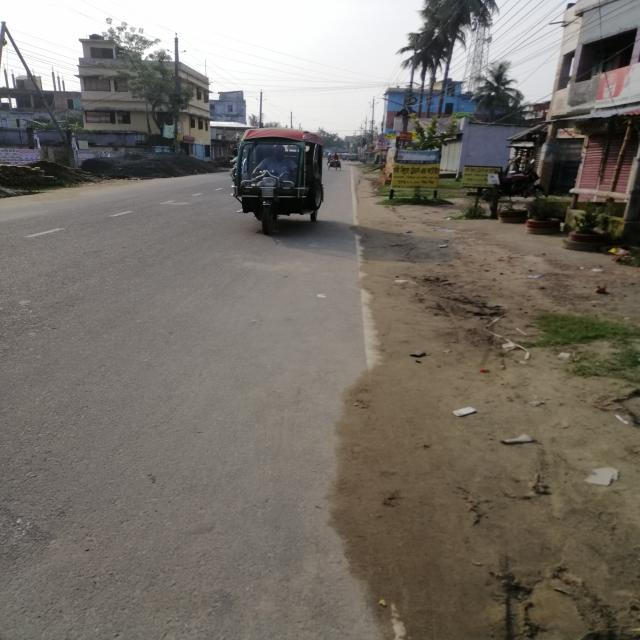Easybike: (207, 115, 349, 242)
